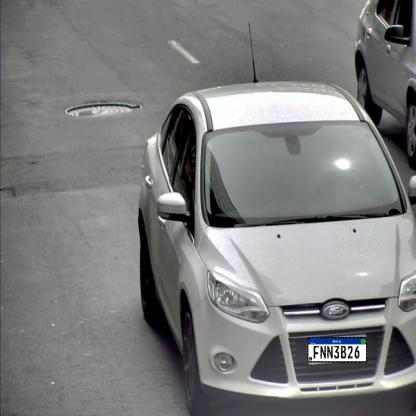PlacaM: (307, 337, 367, 363)
